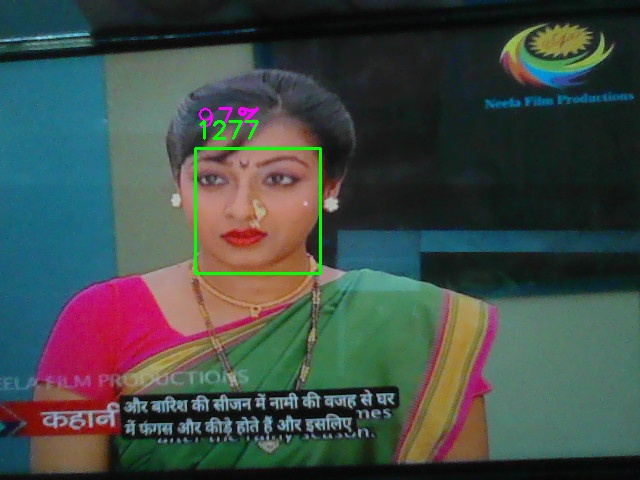fake: (195, 148, 321, 274)
